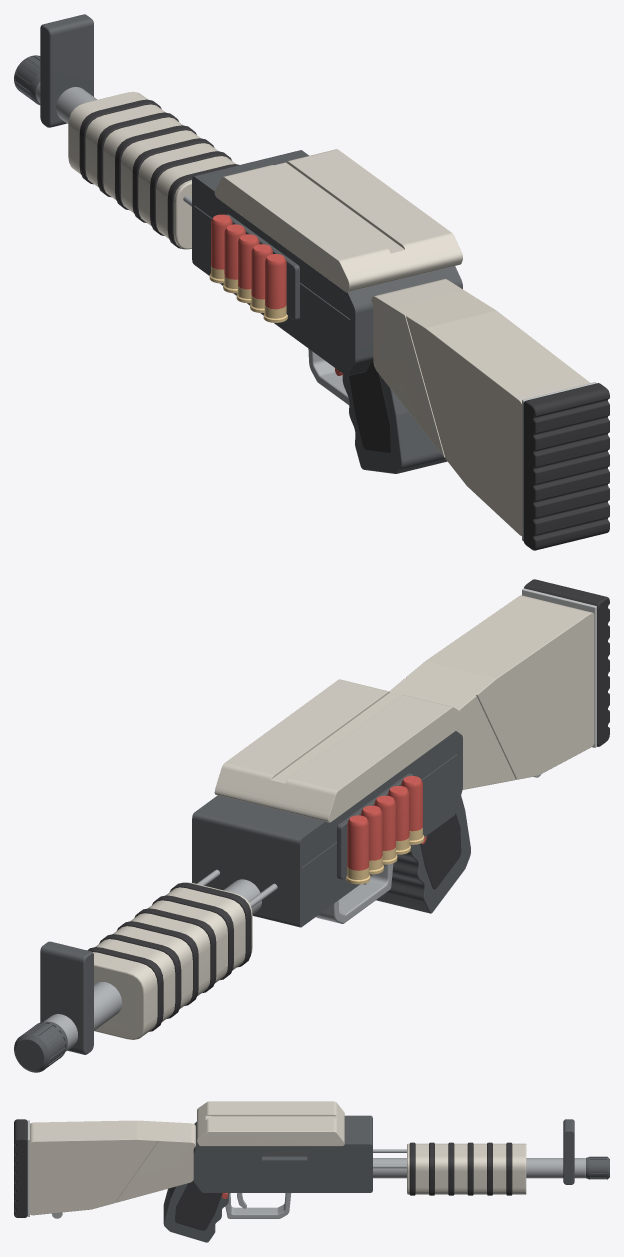
The model's file is shotgun.glb.
3 views of the same model, one above another, from view 1: azimuth 30°, elevation 25°; view 2: azimuth 150°, elevation 25°; view 3: azimuth 270°, elevation 25° (orthographic). The views are drawn at different scales.
Parts seen in each view (by area): view 1: body_shell, body_dark, body_rubber, bolt_shell, bolt_rubber, body_shellCasing, body_steel, body_brass; view 2: body_shell, body_dark, bolt_shell, bolt_rubber, body_rubber, body_shellCasing, body_steel, body_brass, body_edge; view 3: body_shell, body_dark, bolt_shell, body_rubber, body_steel, bolt_rubber, bolt_steel, body_edge.
Boxes of the visible parts, <box> form: body_shell: <box>214,149,589,535</box>; body_dark: <box>14,14,462,473</box>; body_rubber: <box>349,359,609,550</box>; bolt_shell: <box>68,91,236,249</box>; bolt_rubber: <box>79,99,238,249</box>; body_shellCasing: <box>211,214,343,375</box>; body_steel: <box>36,81,349,405</box>; body_brass: <box>209,266,287,322</box>; body_shell: <box>214,595,594,822</box>; body_dark: <box>14,731,470,1072</box>; bolt_shell: <box>93,882,252,1039</box>; bolt_rubber: <box>87,882,251,1031</box>; body_rubber: <box>420,579,609,889</box>; body_shellCasing: <box>347,776,426,870</box>; body_steel: <box>44,774,540,1051</box>; body_brass: <box>346,827,424,884</box>; body_edge: <box>522,588,596,747</box>; body_shell: <box>30,1101,344,1215</box>; body_dark: <box>163,1115,609,1242</box>; bolt_shell: <box>407,1143,526,1194</box>; body_rubber: <box>14,1119,221,1230</box>; body_steel: <box>52,1158,585,1218</box>; bolt_rubber: <box>409,1142,512,1195</box>; bolt_steel: <box>373,1149,406,1168</box>; body_edge: <box>27,1120,29,1216</box>.
Size of the model in its own units: 0.1513 by 0.2267 by 1.05.
